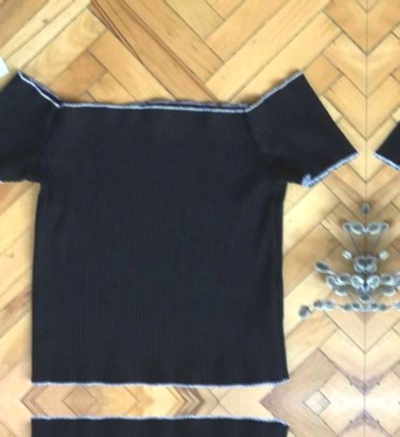Blouse: (0, 33, 346, 393), (0, 410, 344, 437), (386, 35, 400, 395), (384, 413, 400, 437)
